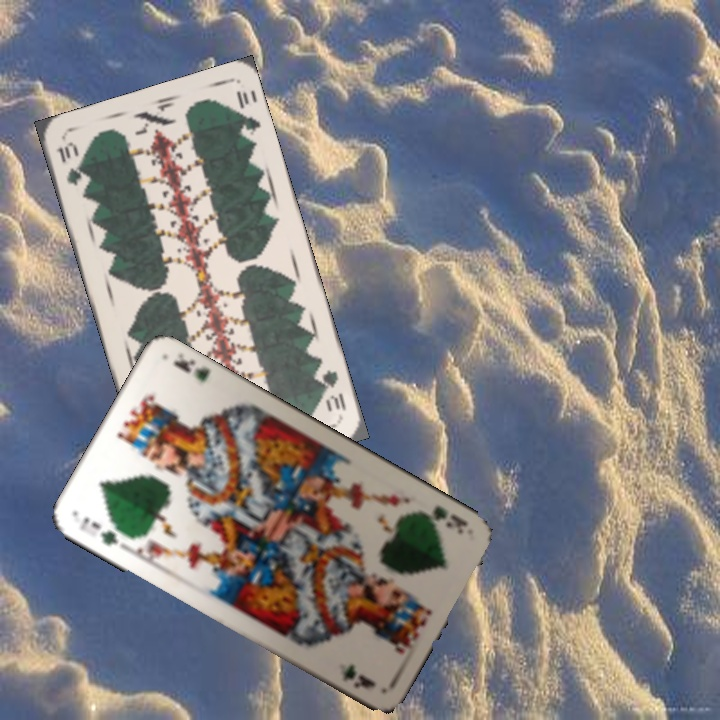G10: (312, 363, 349, 415), (53, 137, 86, 189)
GK: (413, 501, 471, 537), (75, 512, 121, 548)
